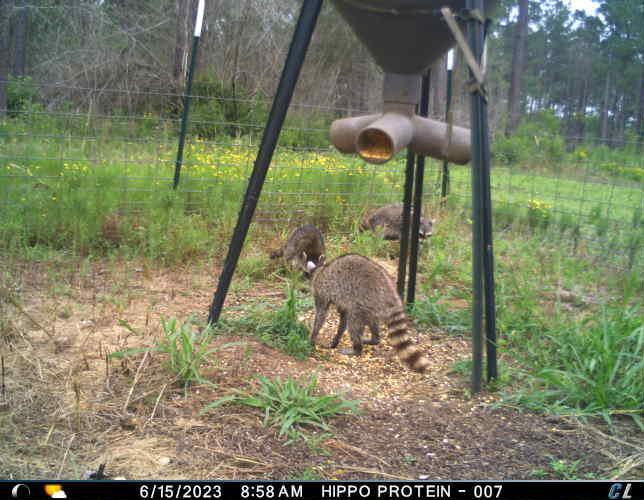Raccoon: (302, 250, 438, 377), (272, 214, 332, 277), (357, 200, 436, 247)
